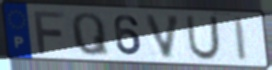6: (112, 14, 144, 57)
F: (32, 9, 67, 56)
I: (232, 16, 250, 63)
Q: (70, 11, 112, 58)
U: (184, 15, 222, 62)
V: (143, 13, 183, 61)
